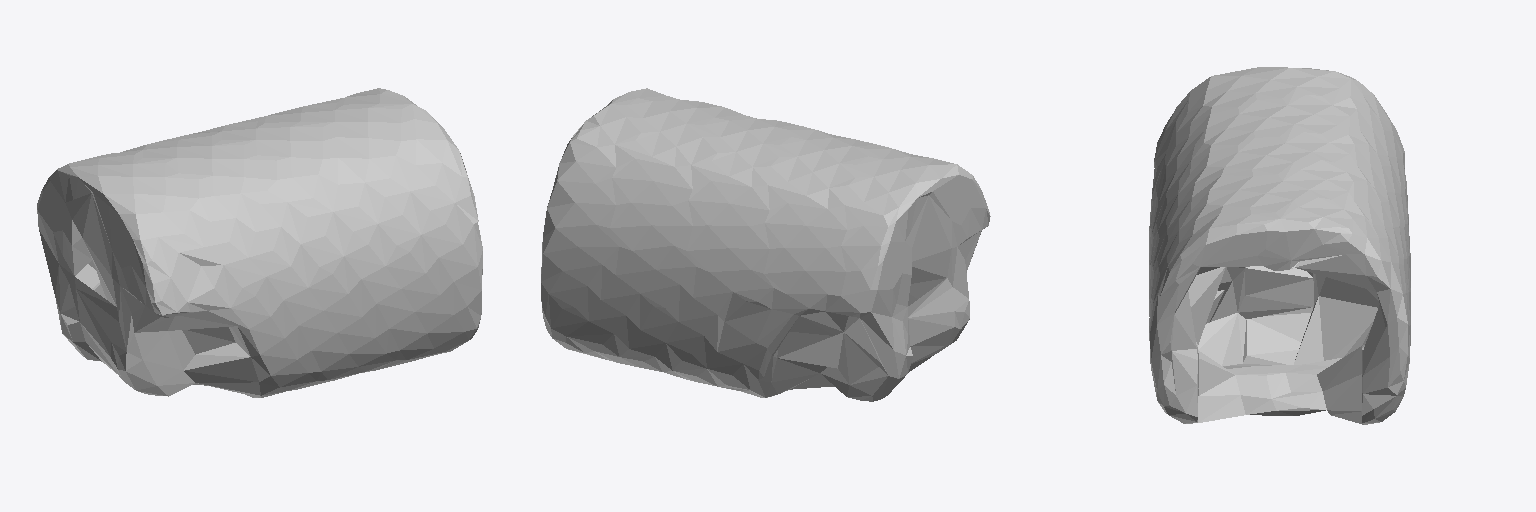
Rendered from sim_ecub_1-0_r_hand_thumb_2.obj.
3 views of the same model, side by side, from view 1: azimuth 30°, elevation 25°; view 2: azimuth 150°, elevation 25°; view 3: azimuth 270°, elevation 25° (orthographic).
Size of the model in its own units: 26.49 by 17.26 by 17.99.